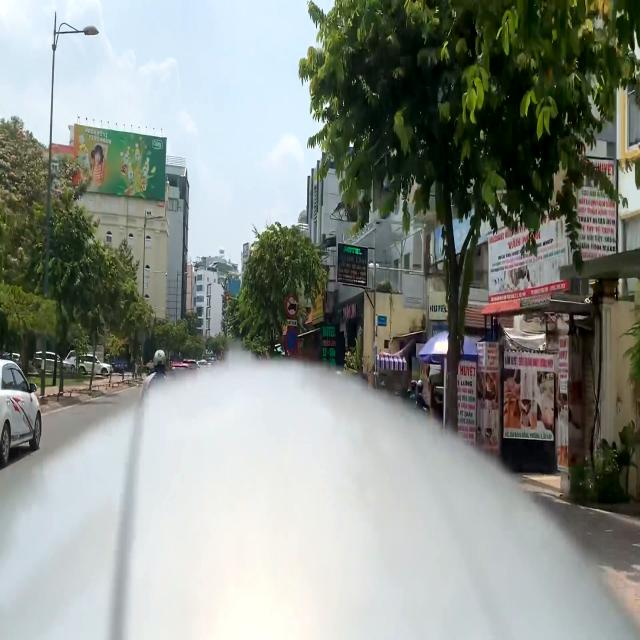P.131a: (285, 328, 299, 353)
